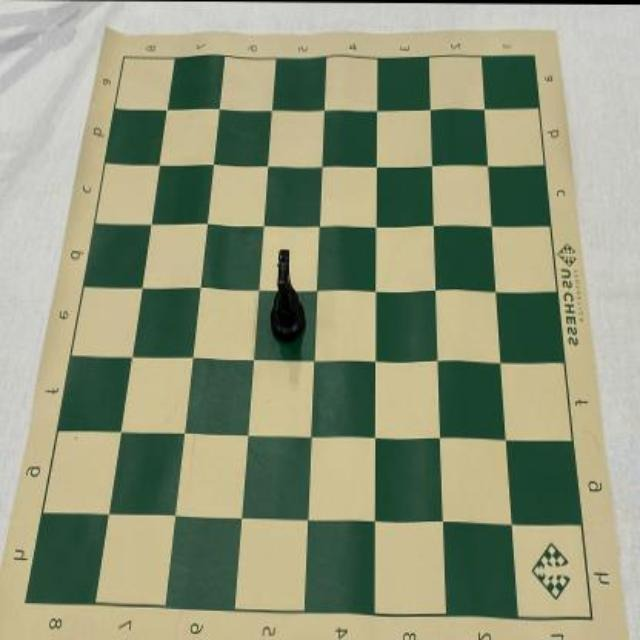black-knight: (270, 247, 306, 343)
